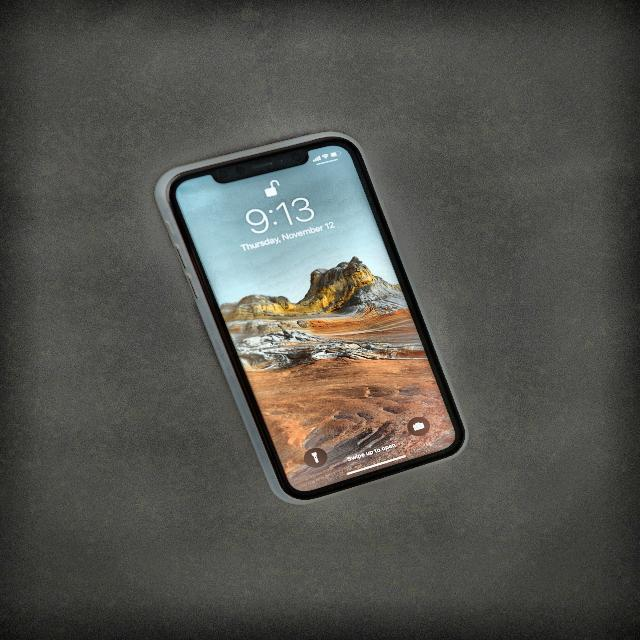Phone: (154, 130, 470, 508)
